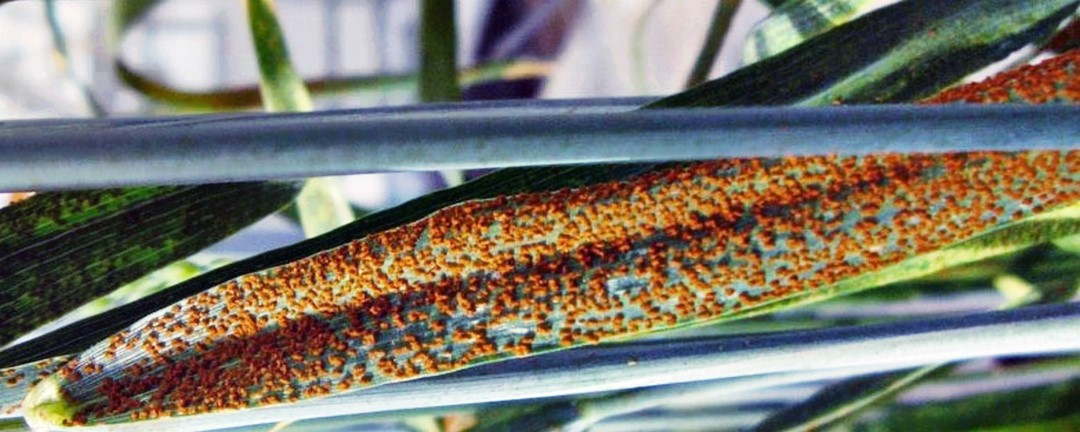Leaf Rust: (132, 151, 955, 423)
